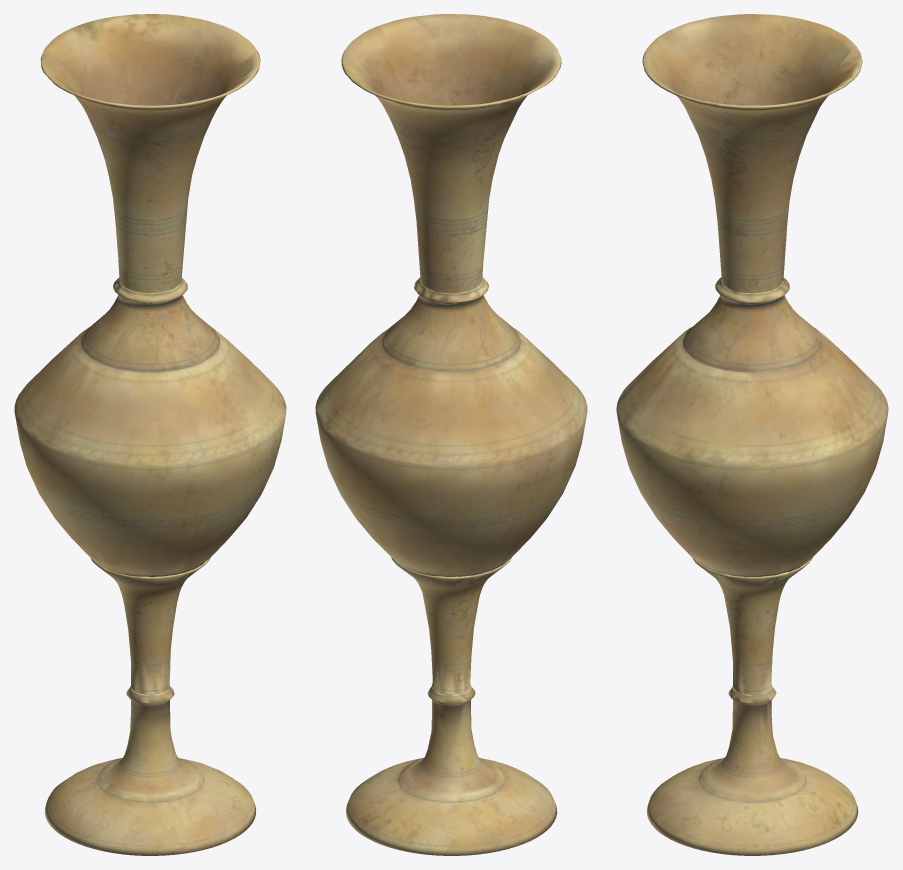
The model's file is brass_vase_01.glb.
3 renders of one model, left to right at view 1: azimuth 30°, elevation 25°; view 2: azimuth 150°, elevation 25°; view 3: azimuth 270°, elevation 25°, orthographic.
Parts seen in each view (by area): view 1: brass_vase_01; view 2: brass_vase_01; view 3: brass_vase_01.
Part boxes in pixels (x1,y1,x2,y2): brass_vase_01: [14, 14, 286, 855]; brass_vase_01: [315, 14, 587, 855]; brass_vase_01: [616, 14, 888, 855].
Bounding box in the file's own units: 0.2272 × 0.6925 × 0.2272.
Materials: 1 (1 with a texture image).
